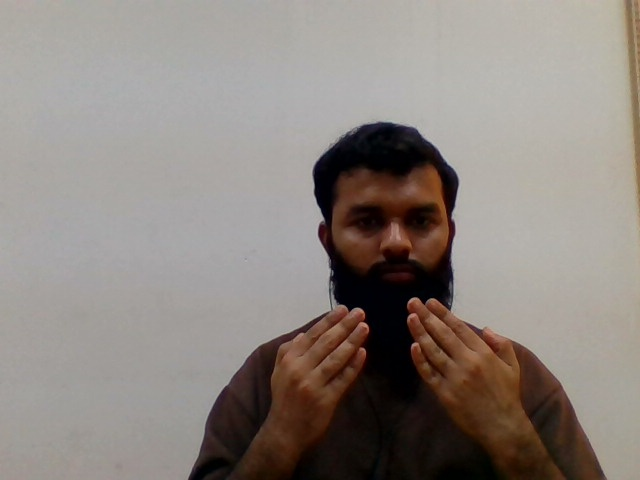Thank You: (248, 214, 559, 458)
